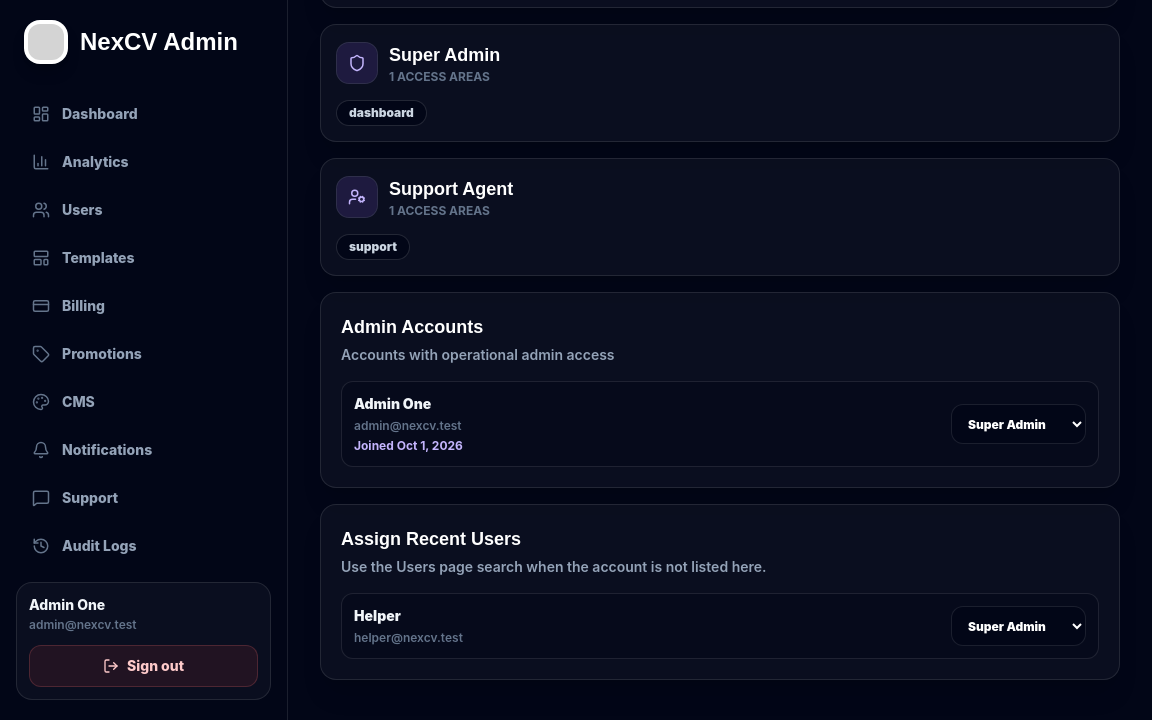
Scenario: AdminDashboard roles › promotes a regular user and moves them into the admin list
(page scrolled)
Expected: the text "Helper" is shown, top-left (354, 607), bottom-right (401, 624)
Select "Support Agent" in the dropdown in the row of "helper@nexcv.test": (1018, 626) top-left (951, 606), bottom-right (1086, 646)
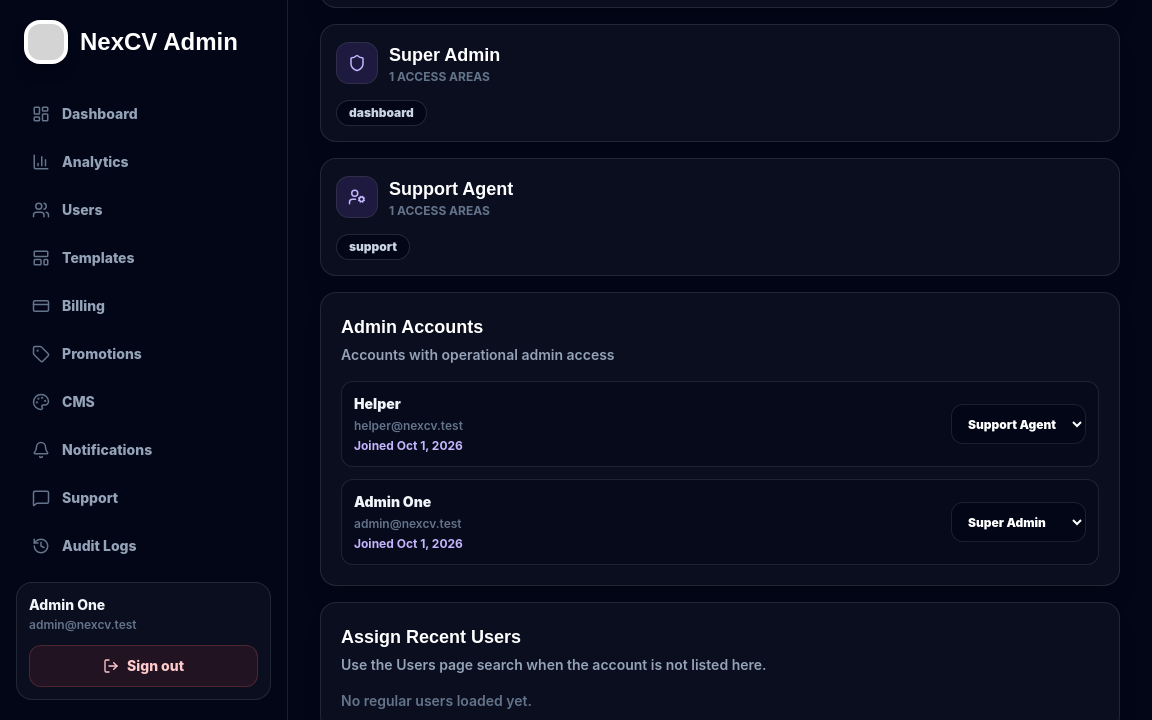
Expected: the text "Helper" is shown, top-left (354, 395), bottom-right (401, 412)
Expected: the text "No regular users loaded yet." is shown, top-left (341, 692), bottom-right (532, 709)
